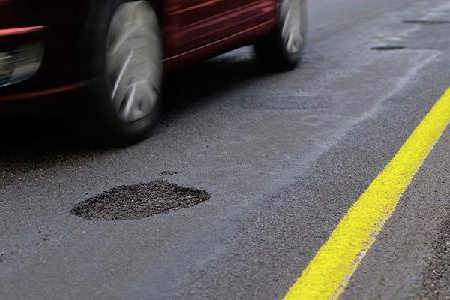pothole: (69, 177, 213, 220), (370, 42, 408, 52), (159, 167, 180, 176)
